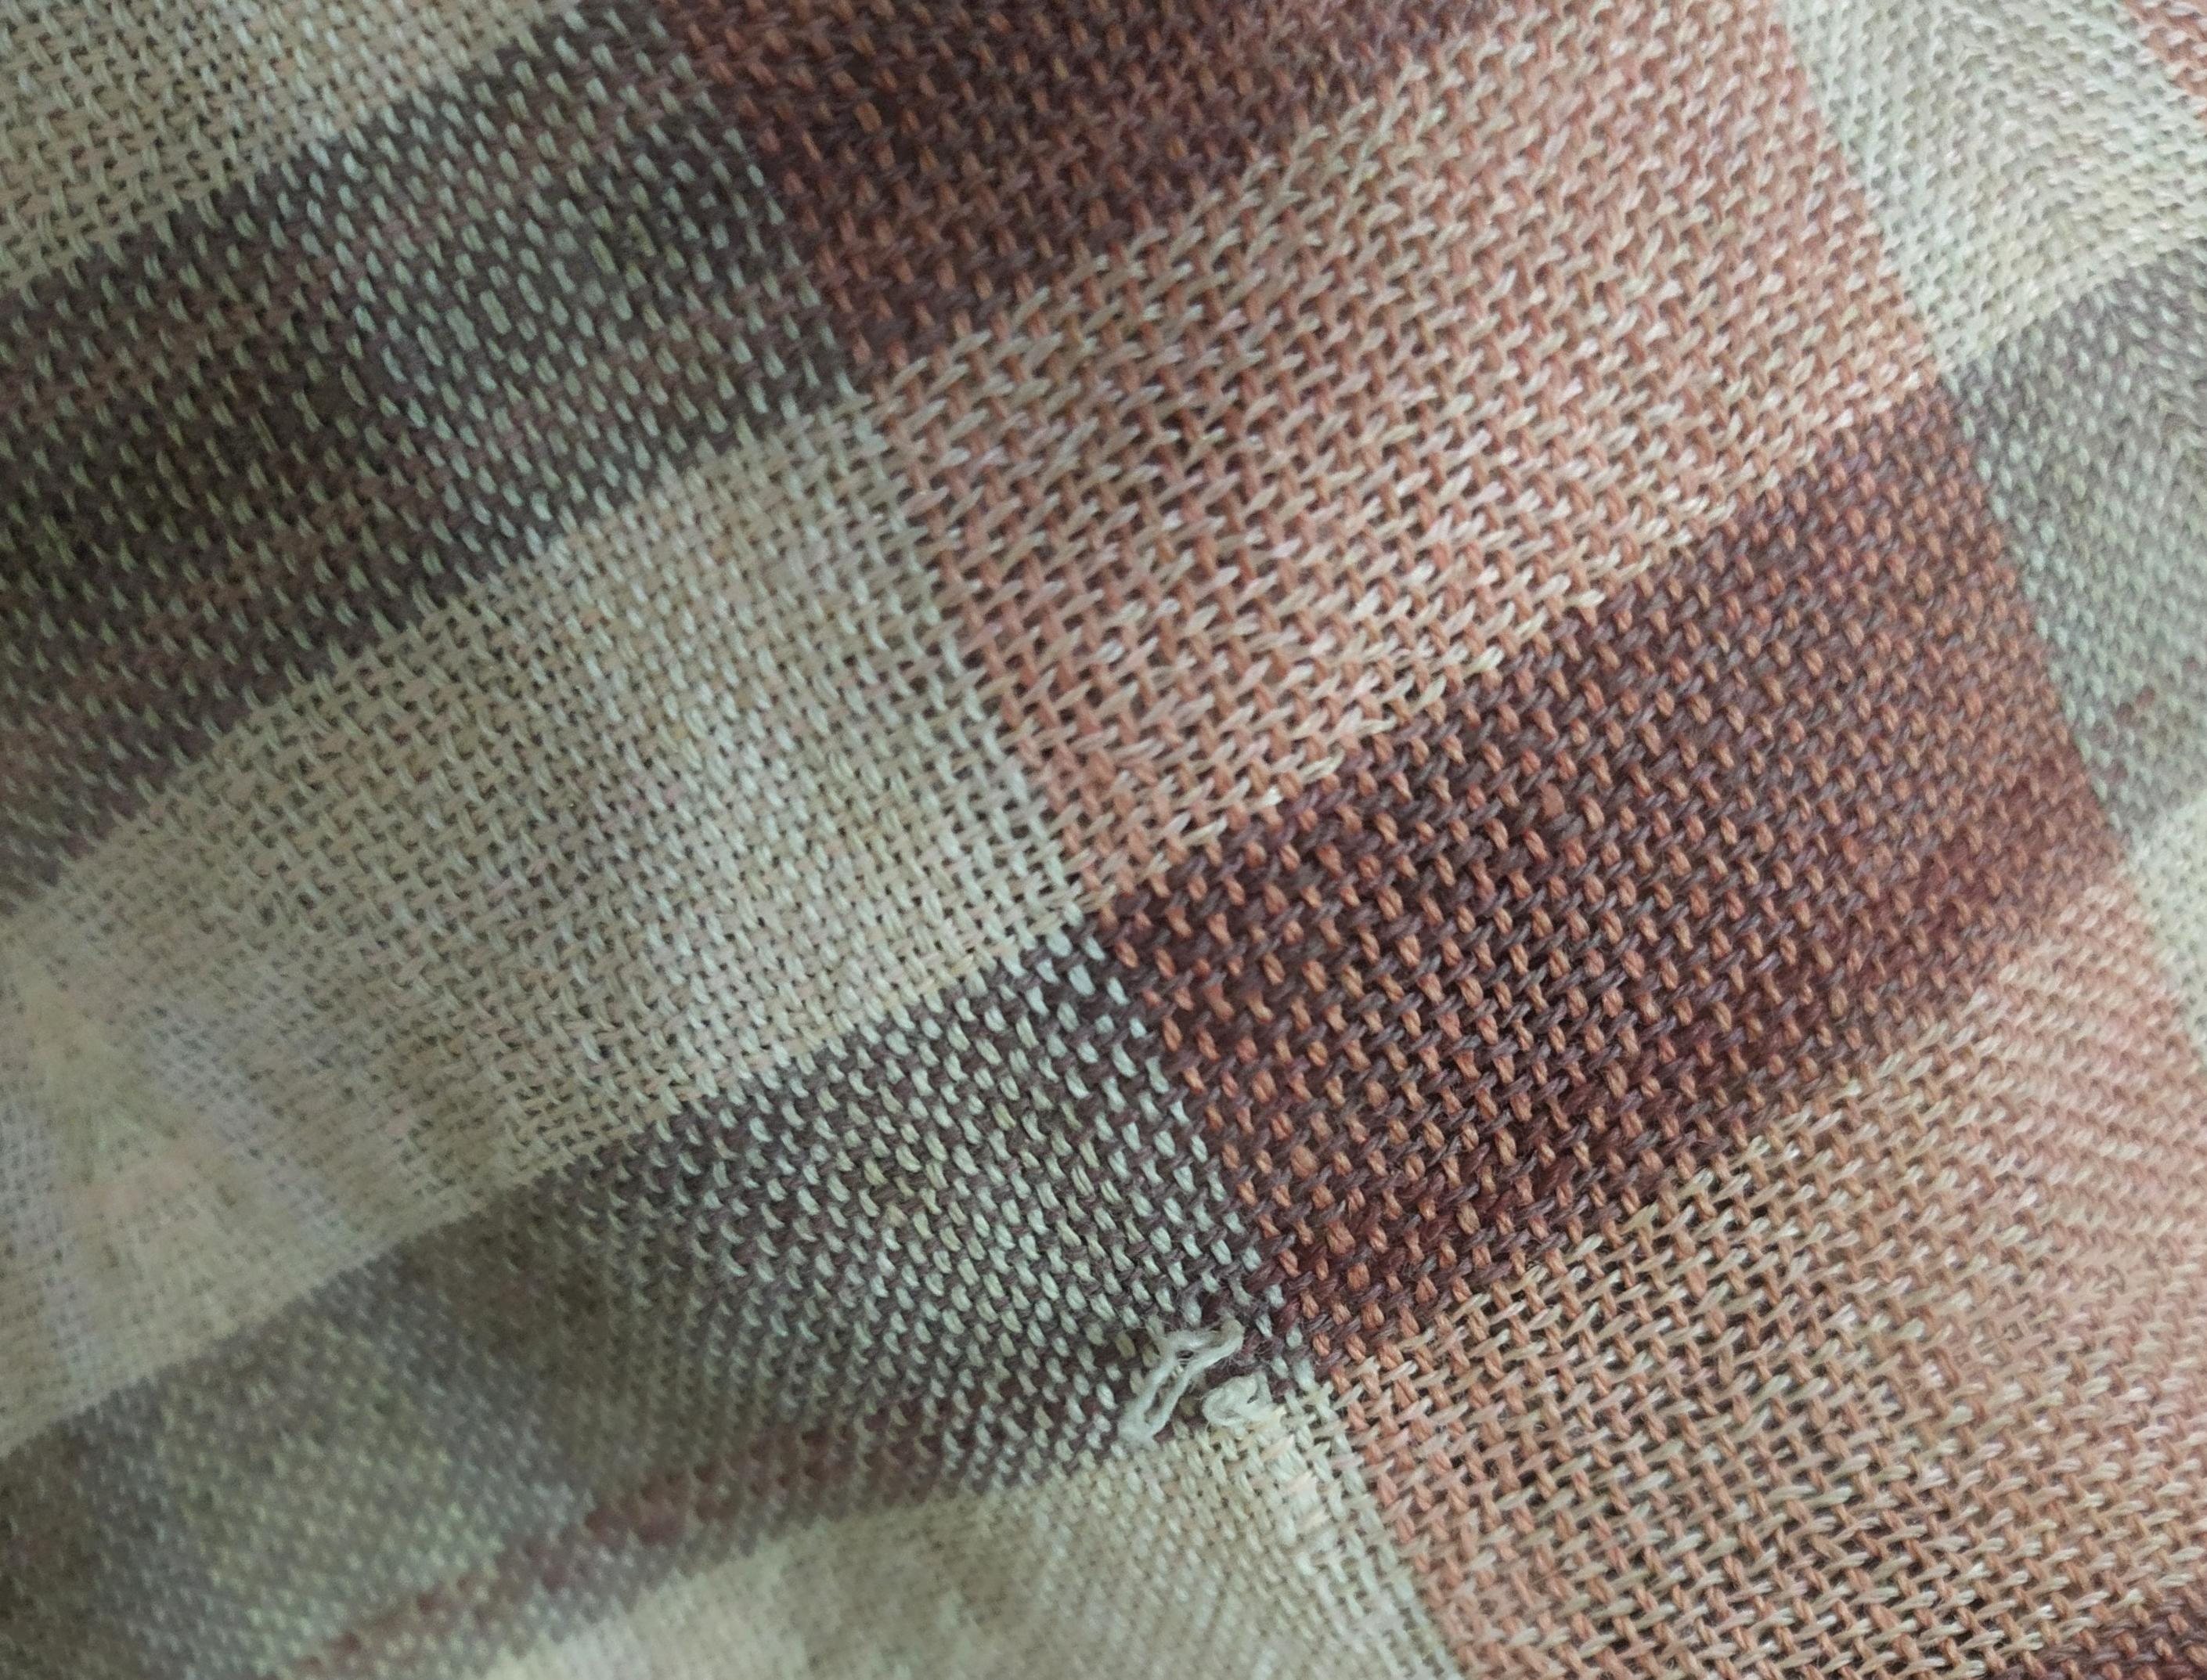snag: (1108, 1301, 1304, 1496)
